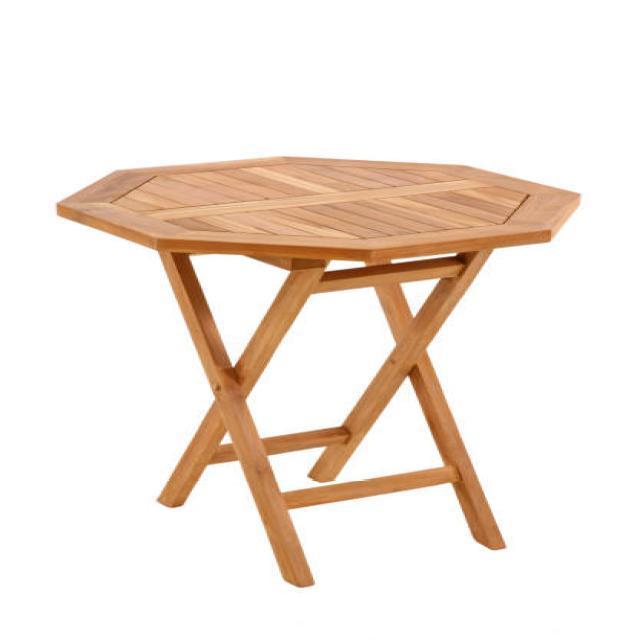table: (55, 154, 582, 586)
